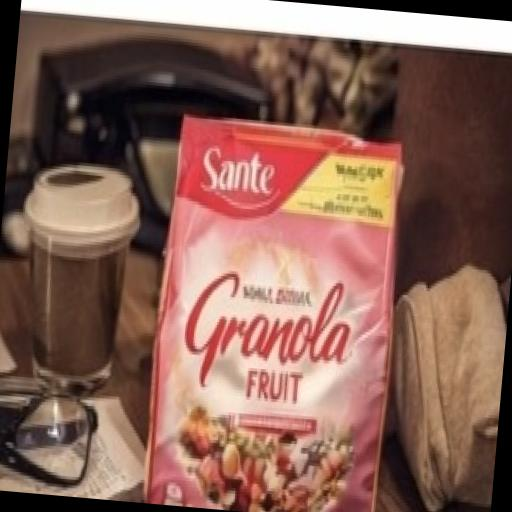granola: (107, 66, 435, 512)
